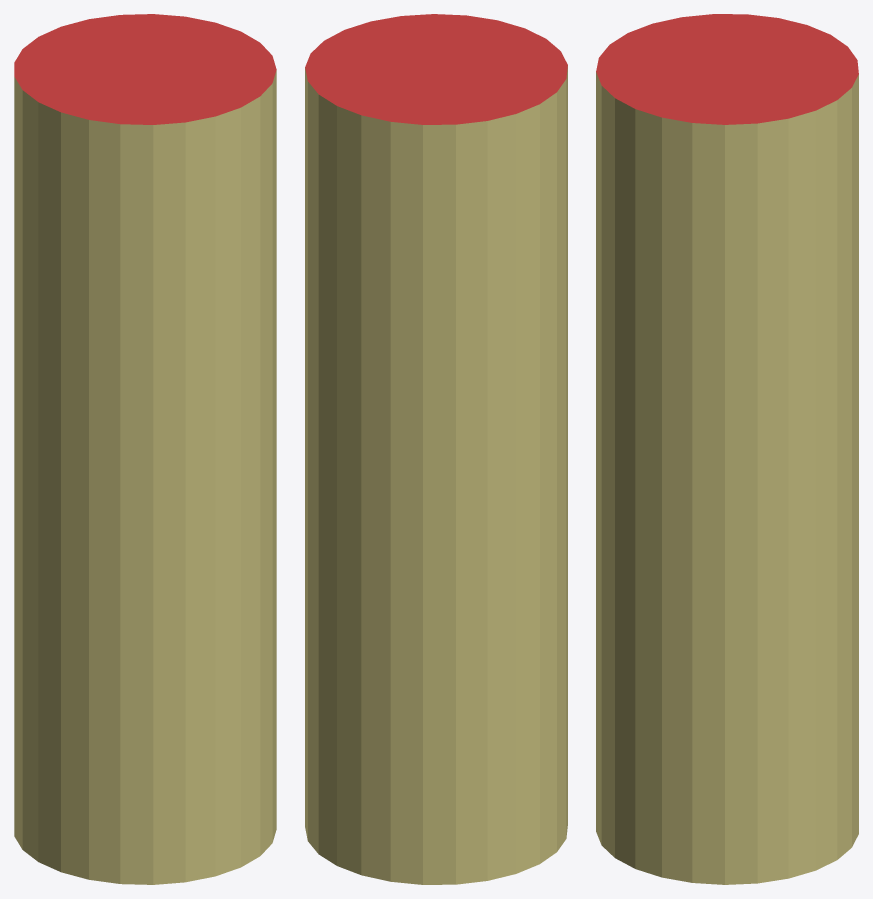
The picture shows the model from 3 angles, left to right: view 1: azimuth 30°, elevation 25°; view 2: azimuth 150°, elevation 25°; view 3: azimuth 270°, elevation 25°; orthographic projection.
Bounding box in the file's own units: 5.24 × 5.25 × 16.74.
